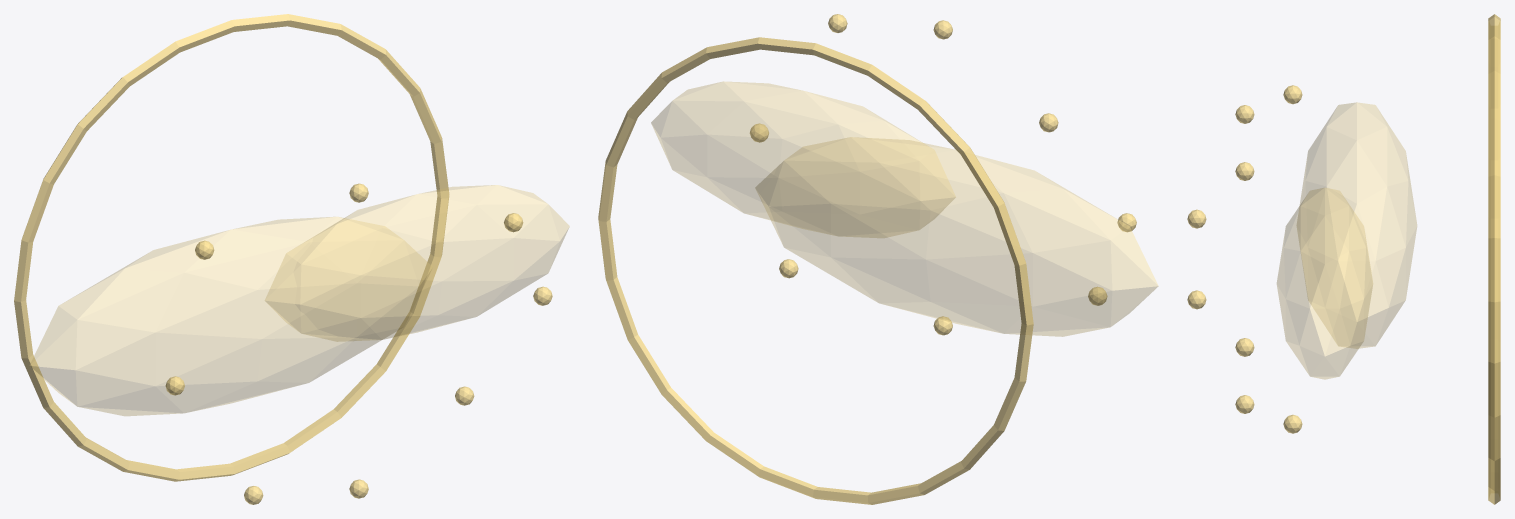
The model's file is 04_atmosphere.glb.
3 views of the same model, side by side, from view 1: azimuth 30°, elevation 25°; view 2: azimuth 150°, elevation 25°; view 3: azimuth 270°, elevation 25° (orthographic). The views are drawn at different scales.
Visible parts, largest first — view 1: cloud_or_nebula_a, cloud_or_nebula_b, horizon_ring; view 2: cloud_or_nebula_a, cloud_or_nebula_b, horizon_ring; view 3: cloud_or_nebula_a, cloud_or_nebula_b, horizon_ring.
Part boxes in pixels (x1,y1,x2,y2): cloud_or_nebula_a: [29, 217, 432, 415]; cloud_or_nebula_b: [265, 185, 569, 341]; horizon_ring: [14, 14, 449, 481]; cloud_or_nebula_a: [755, 137, 1158, 336]; cloud_or_nebula_b: [651, 81, 955, 237]; horizon_ring: [598, 37, 1033, 504]; cloud_or_nebula_a: [1297, 102, 1416, 348]; cloud_or_nebula_b: [1277, 188, 1372, 379]; horizon_ring: [1488, 14, 1500, 504].
Bounding box in the file's own units: 1.85 × 1.54 × 0.979.
